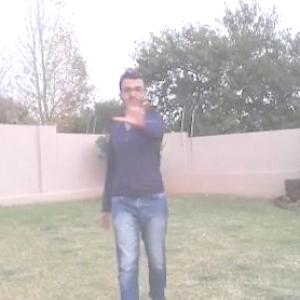follow_hand: (111, 88, 151, 128)
